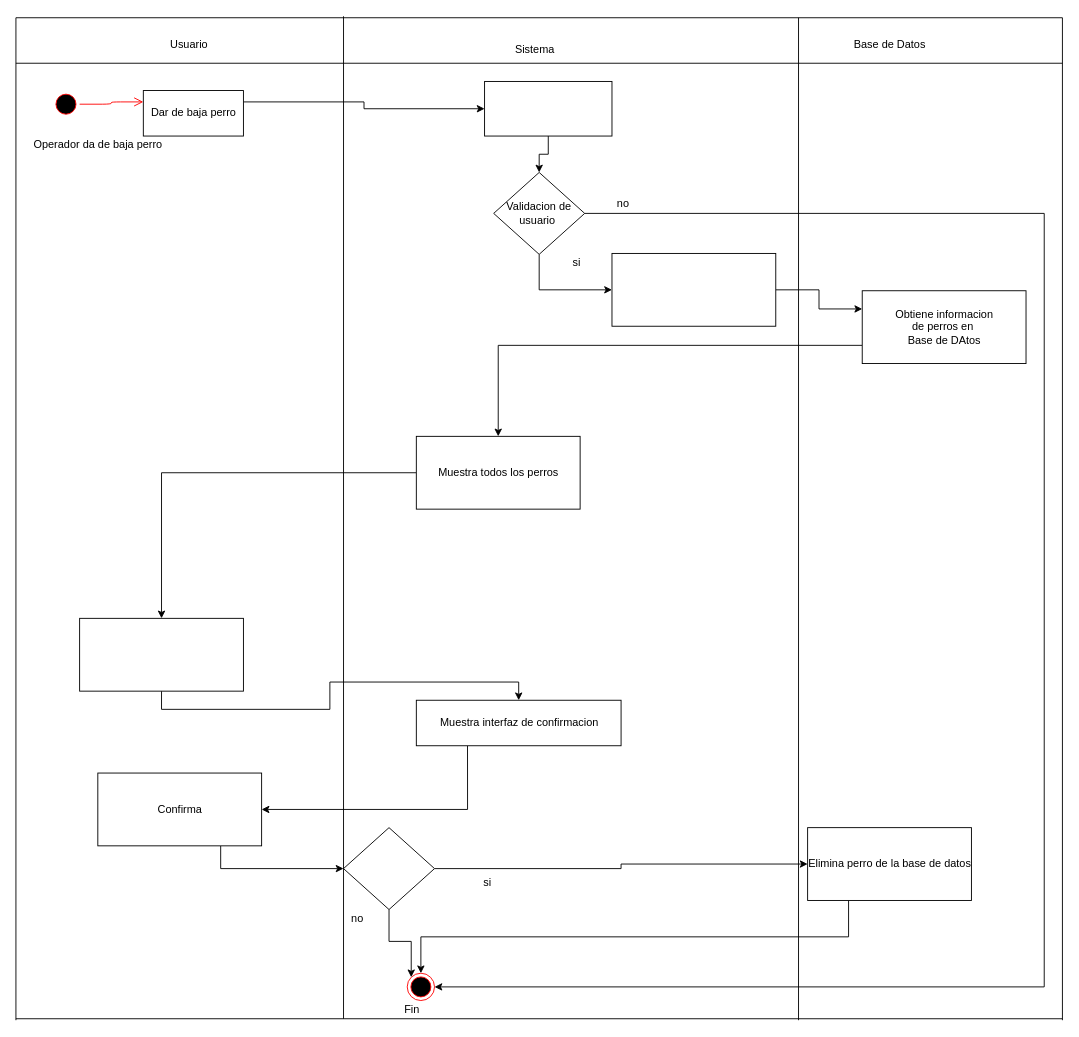
The diagram is 1079 pixels wide and 1037 high, and some of its shapes have lost their labels. The centre of each missing label's shape, as x and y in pixels:
Confirmacion: the point at 389,868
Obtiene datos de sesion: the point at 548,108
Operador selecciona perro: the point at 161,654
pedira gestor informacion de perros: the point at 693,289
